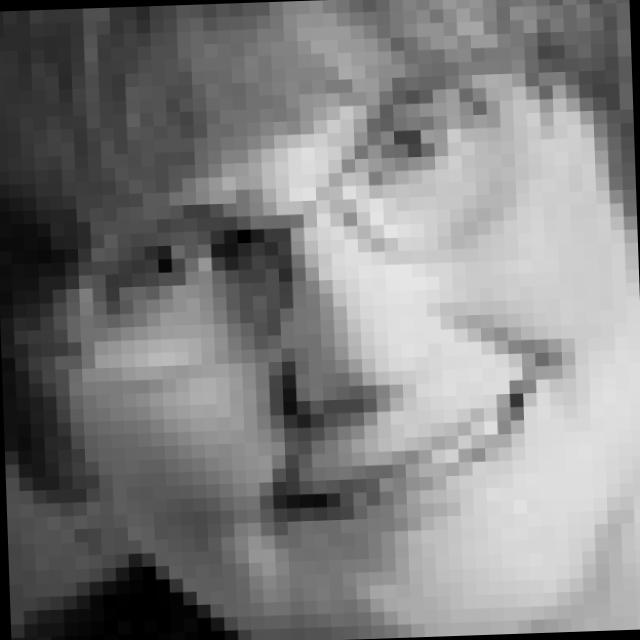happy: (81, 46, 588, 568)
